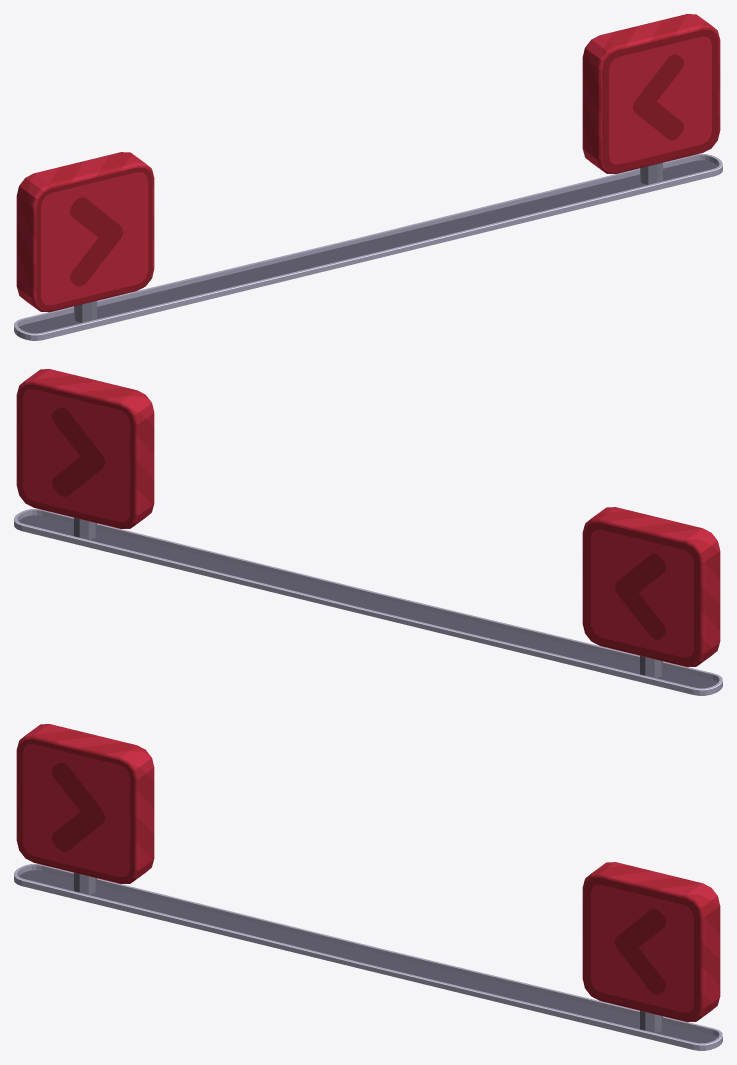
File: Hurdle10.fbx
The picture shows the model from 3 angles, top to bottom: view 1: azimuth 30°, elevation 25°; view 2: azimuth 150°, elevation 25°; view 3: azimuth 330°, elevation 25°; orthographic projection.
Parts seen in each view (by area): view 1: group1; view 2: group1; view 3: group1.
Part boxes in pixels (<box>): group1: <box>14,14,722,340</box>; group1: <box>14,369,722,695</box>; group1: <box>14,724,722,1050</box>.
Size of the model in its own units: 9.92 by 2.04 by 0.5226.
Materials: 1 (1 with a texture image).
